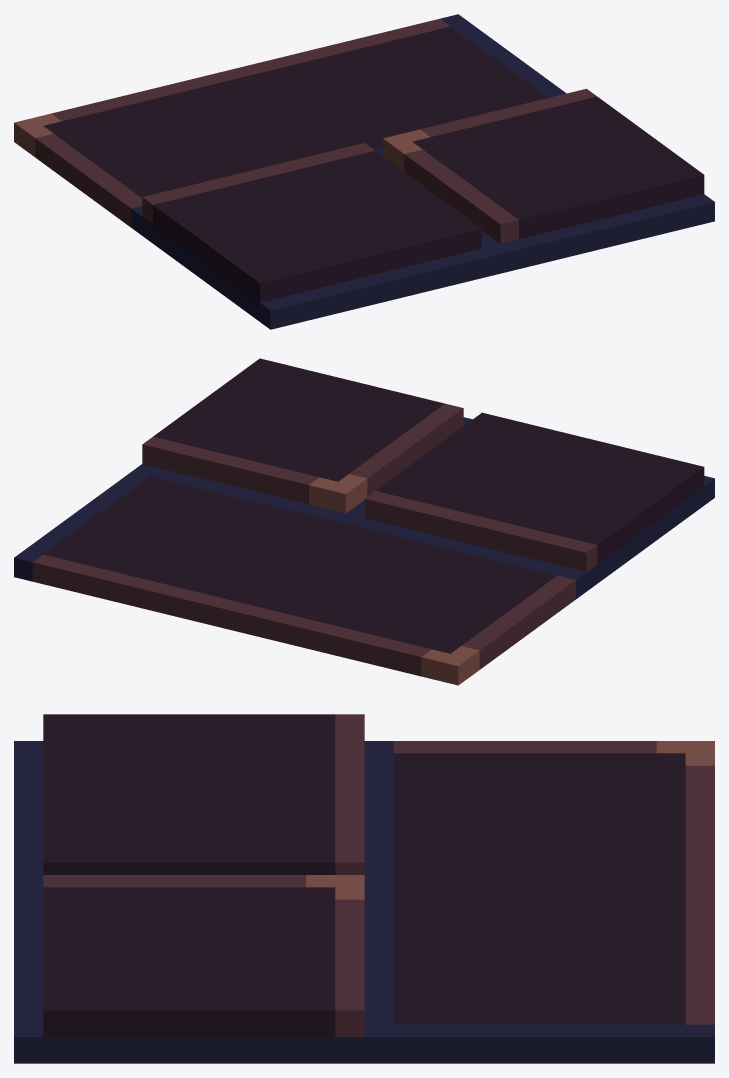
File: Floor5.obj
3 views of the same model, one above another, from view 1: azimuth 30°, elevation 25°; view 2: azimuth 150°, elevation 25°; view 3: azimuth 270°, elevation 25° (orthographic). The views are drawn at different scales.
Parts seen in each view (by area): view 1: po:0:0:0; view 2: po:0:0:0; view 3: po:0:0:0.
Part boxes in pixels (x1,y1,x2,y2): po:0:0:0: [14, 14, 714, 329]; po:0:0:0: [14, 358, 714, 685]; po:0:0:0: [14, 714, 714, 1063].
Bounding box in the file's own units: 2.4 × 0.2 × 2.4.
Materials: 1 (1 with a texture image).
